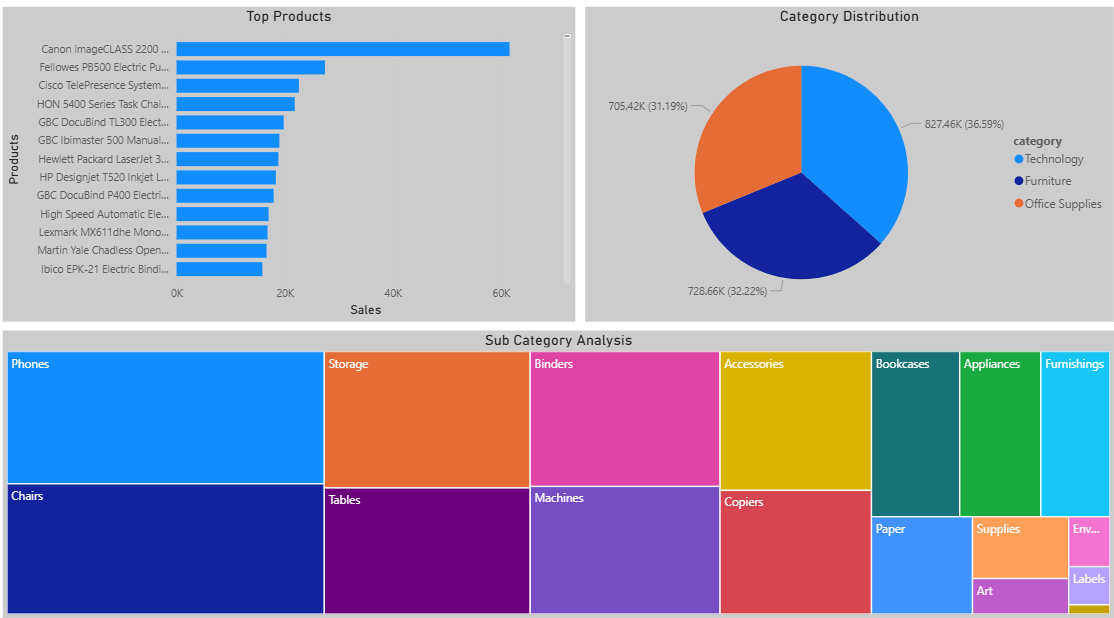

This screenshot's page, from the dashboard's own definition file:
{"tool":"powerbi","page":{"name":"Product Analysis","canvas":[1280,720],"ordinal":1},"visuals":[{"type":"barChart","title":"Top Products","fields":{"Category":["retail_sales.product_name"],"Y":["Sum(retail_sales.sales)"]},"box":[10,21.4,654.3,360],"z":0},{"type":"pieChart","title":"Category Distribution","fields":{"Category":["retail_sales.category"],"Y":["Sum(retail_sales.sales)"]},"box":[675.7,21.4,604.3,360],"z":1000},{"type":"treemap","title":"Sub Category Analysis","fields":{"Group":["retail_sales.sub_category"],"Values":["Sum(retail_sales.sales)"]},"box":[9.6,391.1,1270.7,329.3],"z":2000}]}

Visuals, with their boxes in screenshot pixels (x1, y1, x2, y2), scaled from the page's 1280x720 canvas onto the 1114x618 screenshot:
"Top Products" barChart: (9,18,578,327)
"Category Distribution" pieChart: (588,18,1113,327)
"Sub Category Analysis" treemap: (8,336,1113,617)
